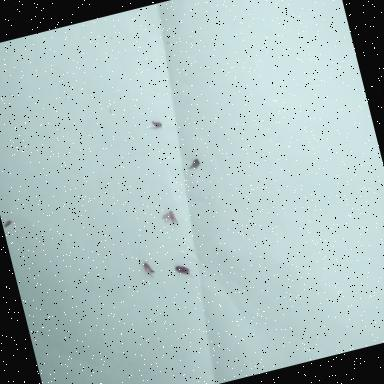pbw: (174, 262, 194, 281), (143, 259, 156, 278), (148, 118, 162, 129)
